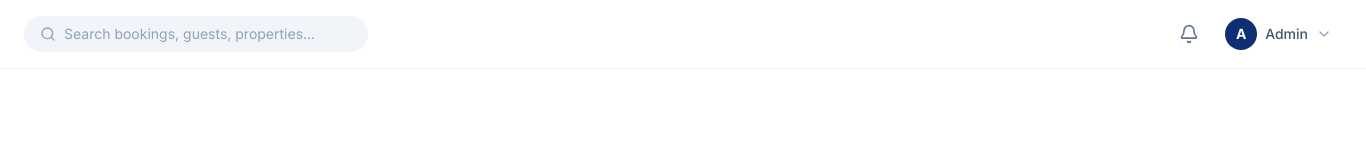
Scenario: Topbar search (ZR-48 / ZR-72) › an unknown future result type still renders
Type "new" into the field with placeholder "Search bookings, guests, properties...".
click(208, 34); type("new")  # box [64,24,352,44]
Wait 400 ms
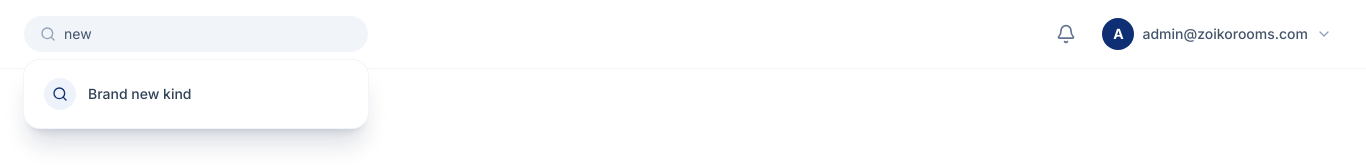
Result: the text "Brand new kind" is shown at [88,85,192,102]
